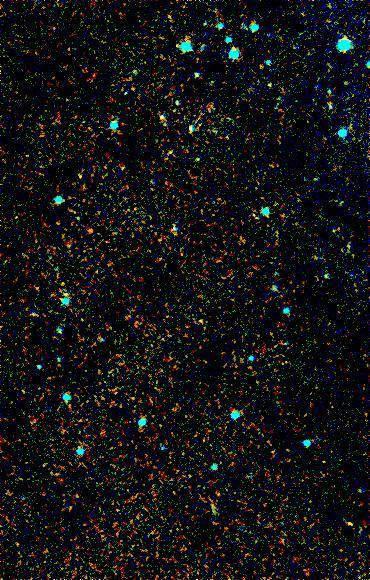star: (75, 215, 105, 245)
